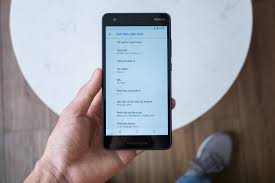nokia: (97, 10, 175, 154)
